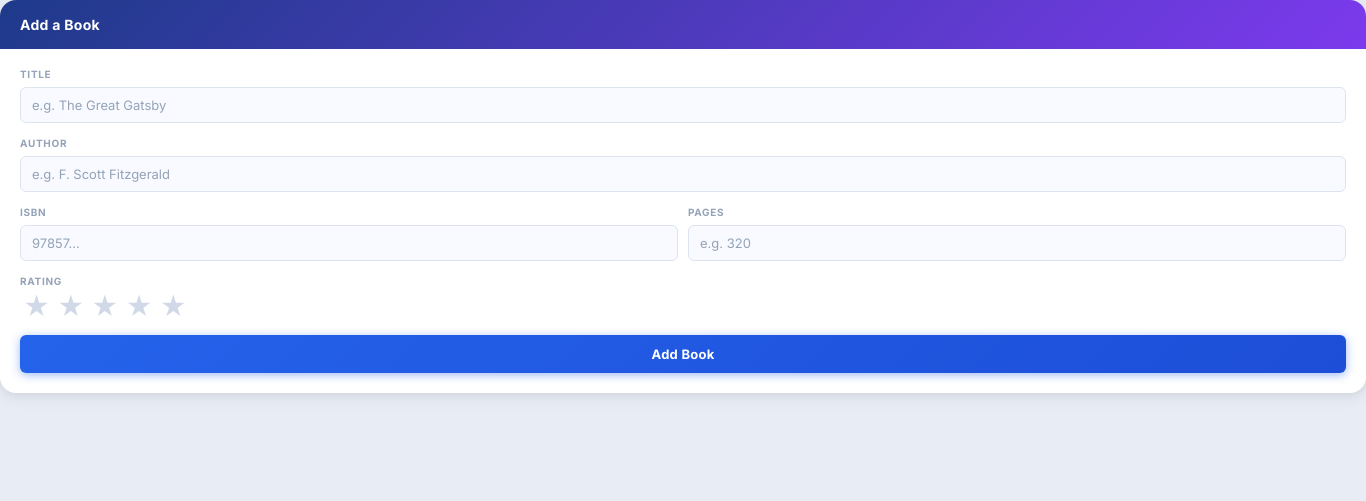
Test: AddBookForm › shows pages validation error for non-numeric input
Type "abc" into the number field labelled "Pages". click: (1017, 243)
box: [688, 225, 1346, 261]
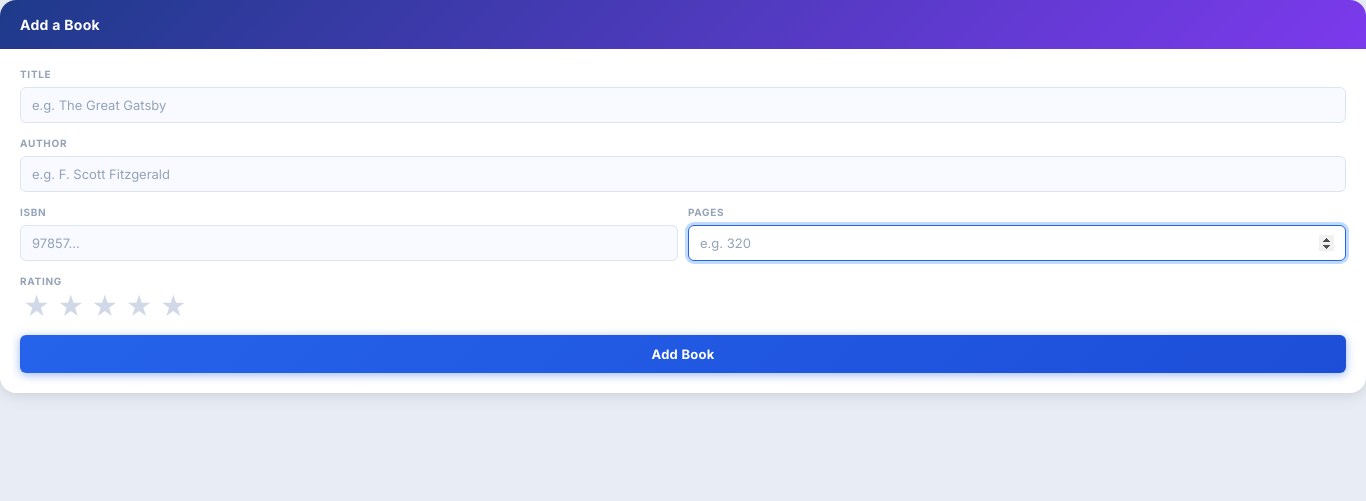
Click the button "Add Book". click: (683, 354)
box: [20, 335, 1346, 373]
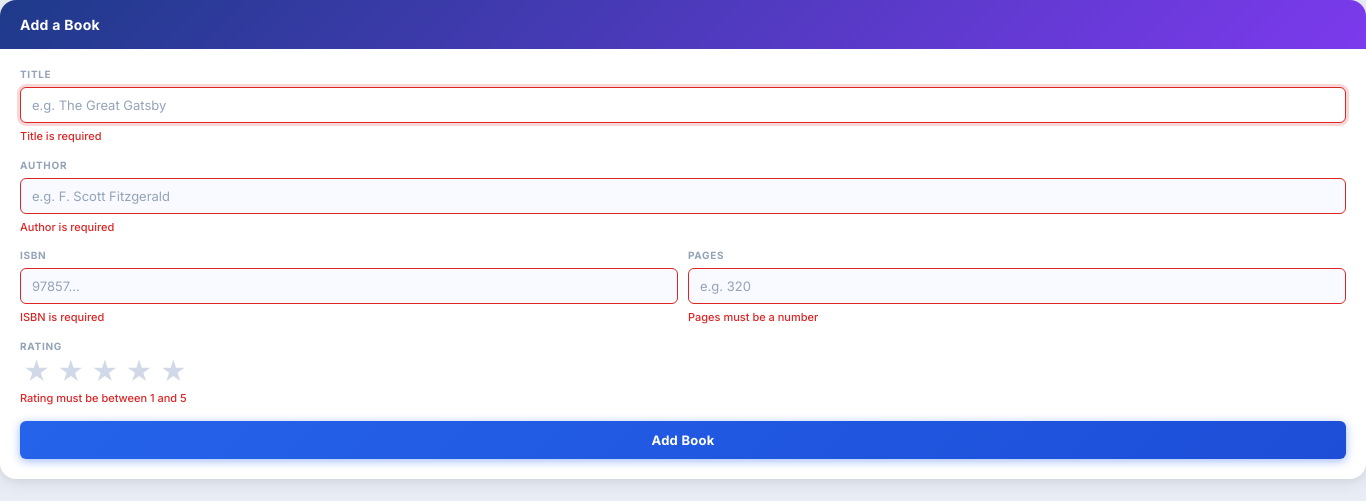
Result: the text "Pages must be a number" is shown at [688, 310, 818, 324]
